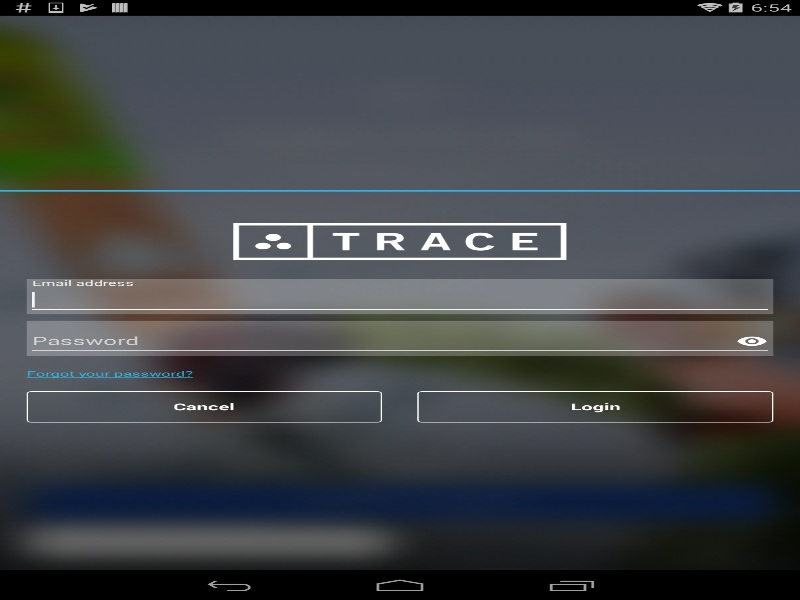Button: (26, 391, 382, 422), (417, 391, 773, 422), (730, 327, 773, 355)
Input: (26, 285, 773, 314), (26, 327, 773, 355)
